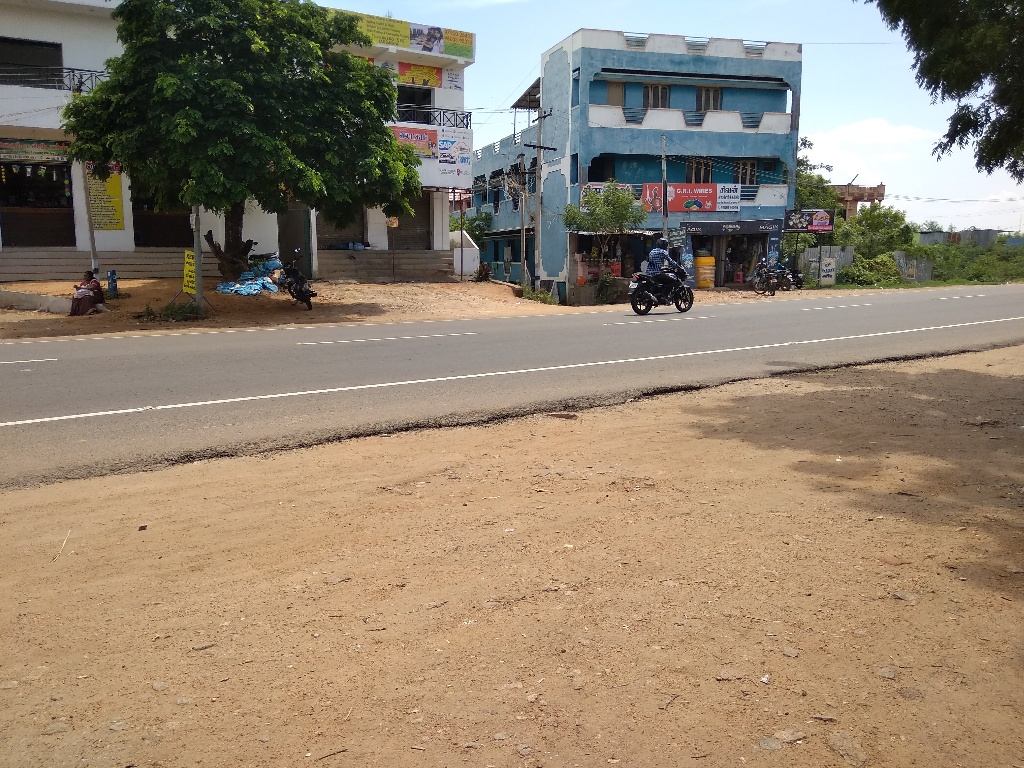biker: (624, 222, 704, 321)
helmet: (652, 233, 674, 255)
